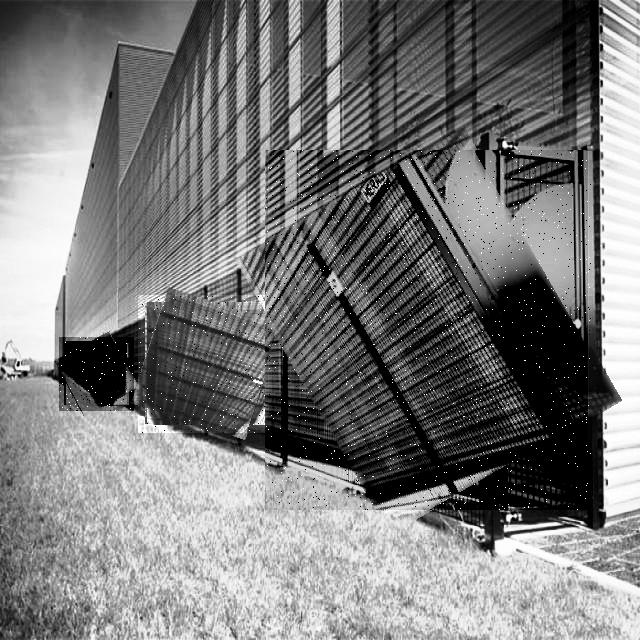fences: (266, 150, 592, 510), (138, 295, 275, 433), (59, 337, 134, 411)
